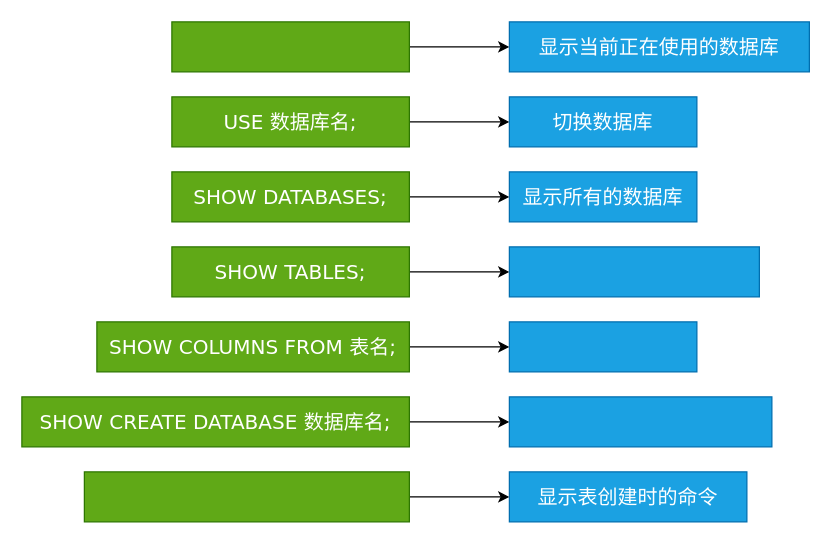
Some shapes in this 831 by 544 pixel diagram are drawn without their labels. The shapes that lost their labels are listed below. From the top down, each one's centre as x and y in pixels, then its label:
the point at 290,46: SELECT DATABASE();
the point at 633,271: 显示数据库中的所有的表
the point at 602,346: 显示表的结构
the point at 640,421: 显示数据库创建时的命令
the point at 246,496: SHOW CREATE TABLE 表名;
